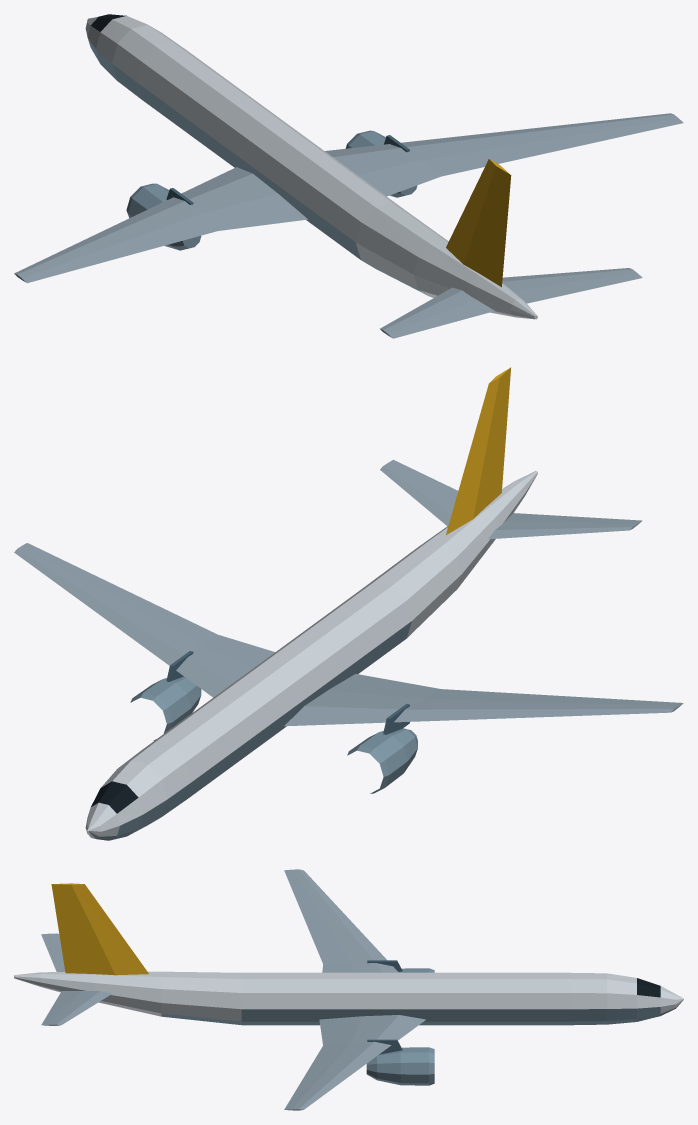
3 renders of one model, top to bottom at view 1: azimuth 30°, elevation 25°; view 2: azimuth 150°, elevation 25°; view 3: azimuth 270°, elevation 25°, orthographic. The views are drawn at different scales.
Parts seen in each view (by area): view 1: lod0; view 2: lod0; view 3: lod0.
Boxes of the visible parts, bbox=[...] form: lod0: bbox=[14, 14, 683, 338]; lod0: bbox=[14, 367, 683, 840]; lod0: bbox=[14, 869, 683, 1110].
Size of what is drawn, in the model's own units: 0.8461 by 0.2627 by 1.
